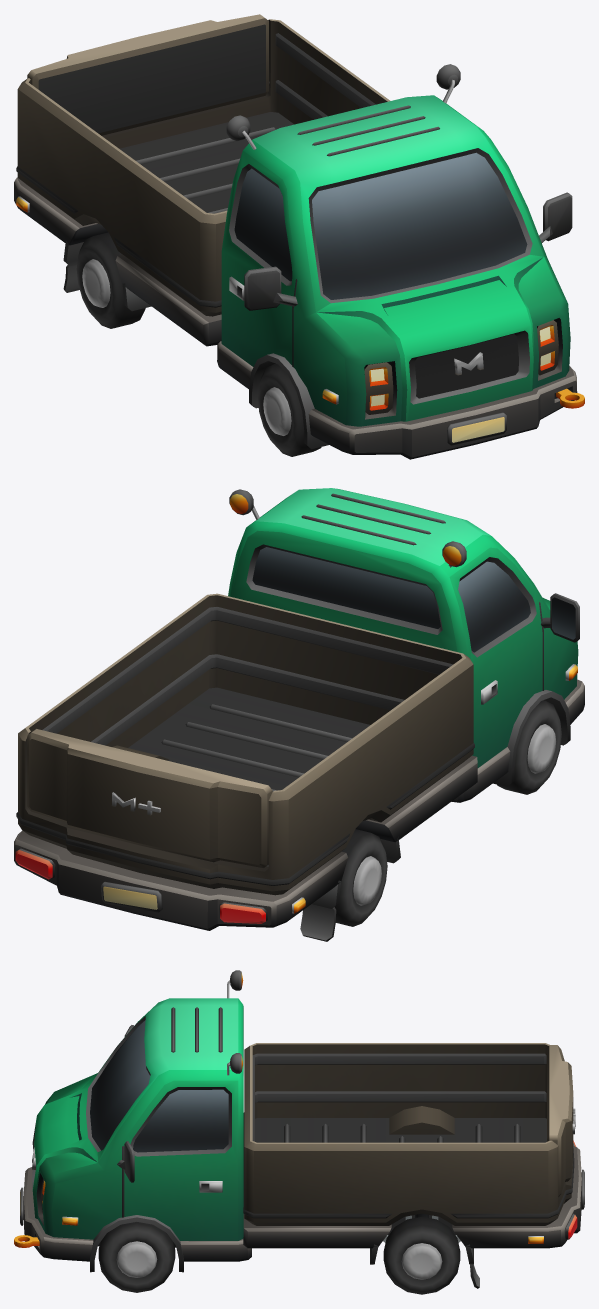
The model's file is Pick_Up_1A.fbx.
3 renders of one model, top to bottom at view 1: azimuth 30°, elevation 25°; view 2: azimuth 150°, elevation 25°; view 3: azimuth 270°, elevation 25°, orthographic. The views are drawn at different scales.
Parts seen in each view (by area): view 1: Pick_Up_1A, Pick_Up_1A_Tailgate, Pick_Up_1A_Wheel_R.R, Pick_Up_1A_Wheel_F.R; view 2: Pick_Up_1A, Pick_Up_1A_Tailgate, Pick_Up_1A_Wheel_R.R, Pick_Up_1A_Wheel_F.R; view 3: Pick_Up_1A, Pick_Up_1A_Wheel_R.L, Pick_Up_1A_Wheel_F.L, Pick_Up_1A_Tailgate.
Boxes of the visible parts, x1,y1,x2,y2 form: Pick_Up_1A: [14, 19, 584, 459]; Pick_Up_1A_Tailgate: [27, 14, 269, 135]; Pick_Up_1A_Wheel_R.R: [76, 232, 145, 328]; Pick_Up_1A_Wheel_F.R: [257, 364, 321, 456]; Pick_Up_1A: [14, 488, 584, 941]; Pick_Up_1A_Tailgate: [27, 729, 272, 867]; Pick_Up_1A_Wheel_R.R: [334, 829, 387, 926]; Pick_Up_1A_Wheel_F.R: [497, 700, 561, 794]; Pick_Up_1A: [14, 970, 584, 1288]; Pick_Up_1A_Wheel_R.L: [383, 1217, 460, 1294]; Pick_Up_1A_Wheel_F.L: [98, 1222, 175, 1292]; Pick_Up_1A_Tailgate: [547, 1045, 575, 1196].
Bounding box in the file's own units: 3.18 × 2.66 × 5.95.
